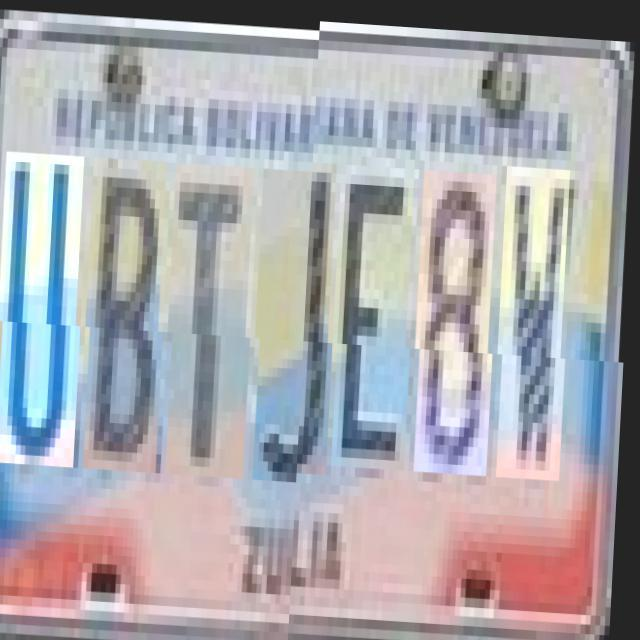8: (418, 174, 502, 478)
B: (88, 157, 173, 470)
E: (336, 169, 420, 474)
J: (258, 166, 342, 480)
T: (170, 160, 260, 476)
U: (0, 152, 90, 466)
W: (501, 168, 576, 482)
